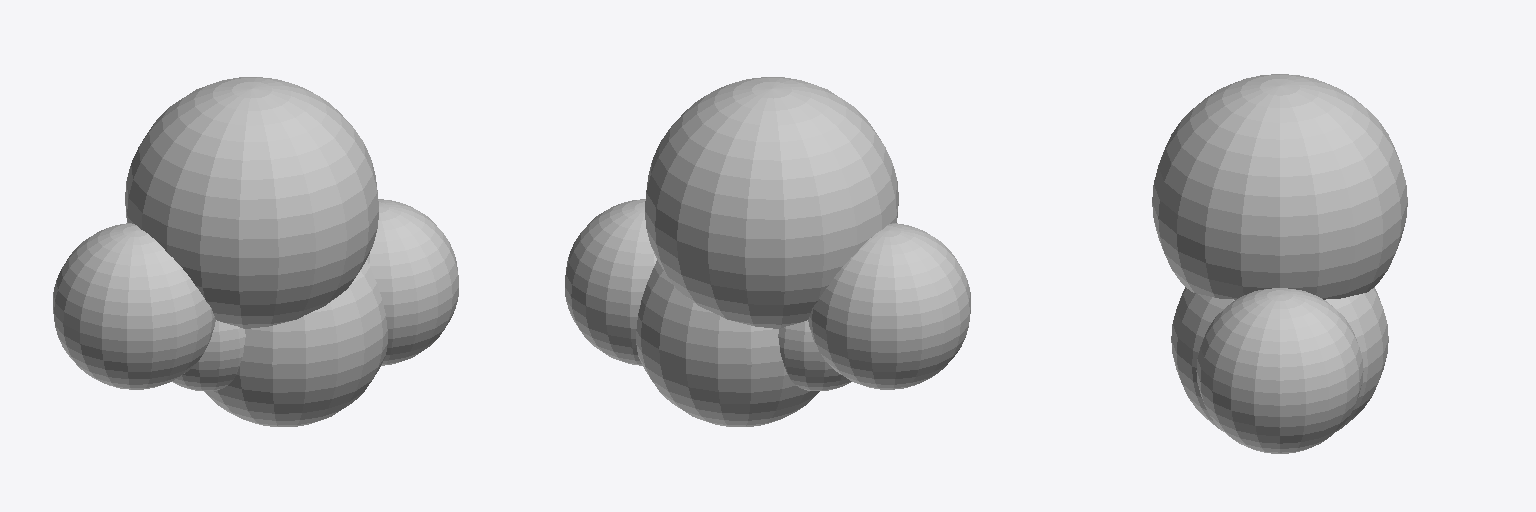
The model's file is cloud1.obj.
The picture shows the model from 3 angles: view 1: azimuth 30°, elevation 25°; view 2: azimuth 150°, elevation 25°; view 3: azimuth 270°, elevation 25°; orthographic projection.
Parts seen in each view (by area): view 1: pSphere3 cloud1, cloud1 pSphere7, cloud1 pSphere6, cloud1 pSphere5, cloud1 pSphere8; view 2: pSphere3 cloud1, cloud1 pSphere7, cloud1 pSphere6, cloud1 pSphere5, cloud1 pSphere8; view 3: pSphere3 cloud1, cloud1 pSphere5, cloud1 pSphere6.
Boxes of the visible parts, x1,y1,x2,y2 form: pSphere3 cloud1: [125, 77, 378, 328]; cloud1 pSphere7: [53, 223, 215, 389]; cloud1 pSphere6: [204, 260, 387, 426]; cloud1 pSphere5: [367, 199, 458, 365]; cloud1 pSphere8: [172, 320, 245, 390]; pSphere3 cloud1: [645, 77, 898, 328]; cloud1 pSphere7: [808, 223, 970, 389]; cloud1 pSphere6: [636, 260, 819, 426]; cloud1 pSphere5: [565, 199, 656, 365]; cloud1 pSphere8: [778, 320, 851, 390]; pSphere3 cloud1: [1152, 74, 1407, 299]; cloud1 pSphere5: [1196, 288, 1363, 453]; cloud1 pSphere6: [1171, 287, 1388, 430].
Bounding box in the file's own units: 6.35 × 5.3 × 3.65.